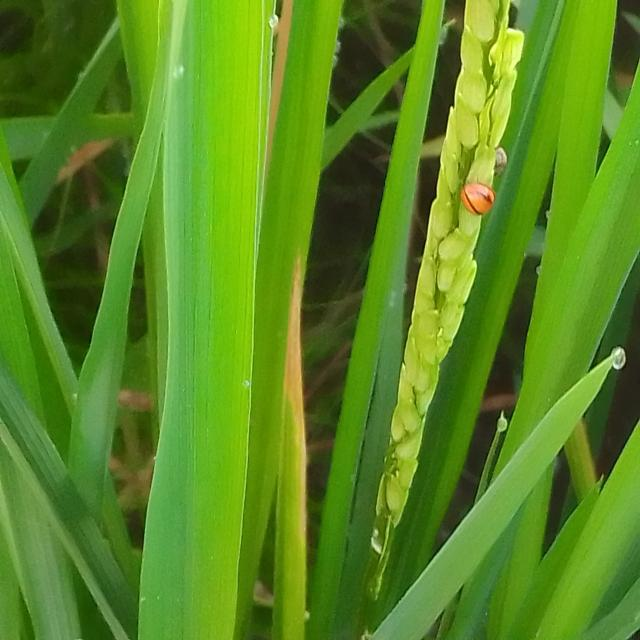Brown spot: (266, 235, 321, 632)
